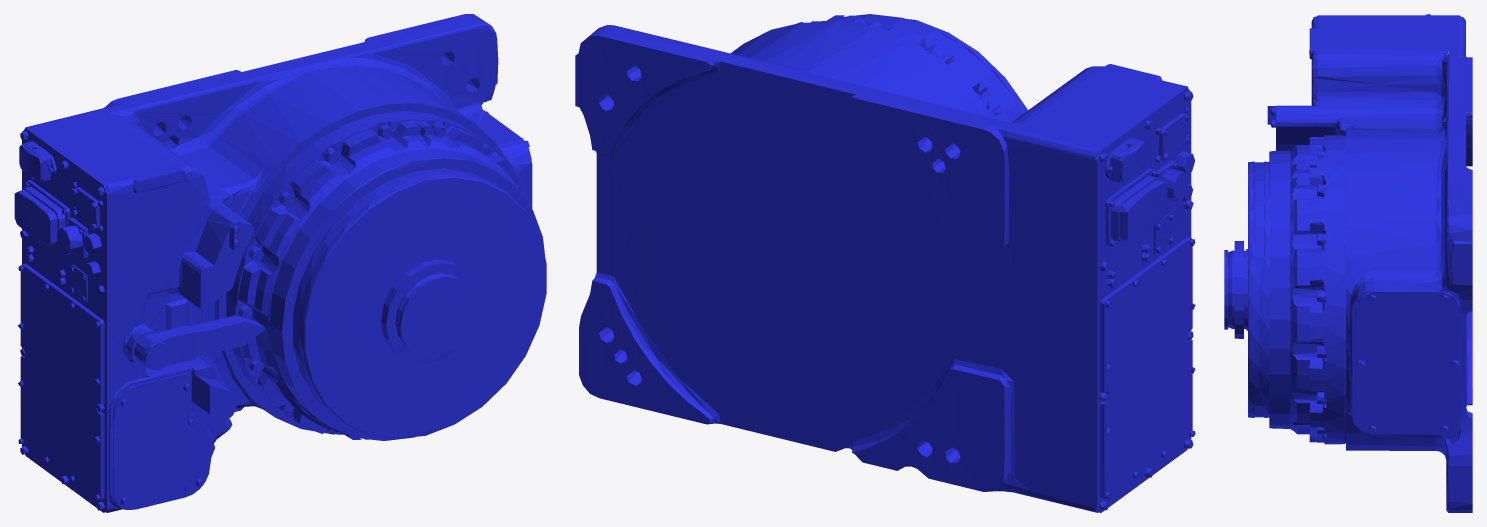
Rendered from BaseLink.glb.
3 views of the same model, side by side, from view 1: azimuth 30°, elevation 25°; view 2: azimuth 150°, elevation 25°; view 3: azimuth 270°, elevation 25° (orthographic). The views are drawn at different scales.
Parts seen in each view (by area): view 1: /BaseLink/BaseLink_002-mesh/0; view 2: /BaseLink/BaseLink_002-mesh/0; view 3: /BaseLink/BaseLink_002-mesh/0.
Part boxes in pixels (x1,y1,x2,y2): /BaseLink/BaseLink_002-mesh/0: (14, 14, 546, 512); /BaseLink/BaseLink_002-mesh/0: (575, 14, 1195, 512); /BaseLink/BaseLink_002-mesh/0: (1224, 14, 1472, 512).
Size of the model in its own units: 0.7765 by 0.5005 by 0.3784.
